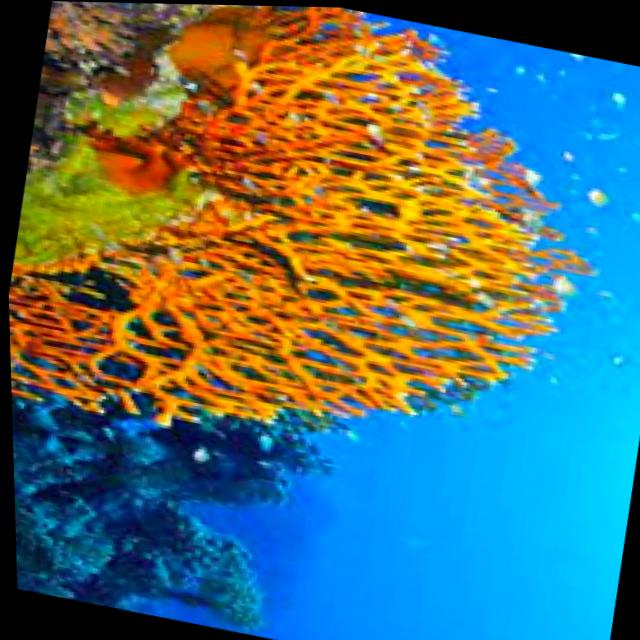Dead Coral: (9, 408, 308, 622)
